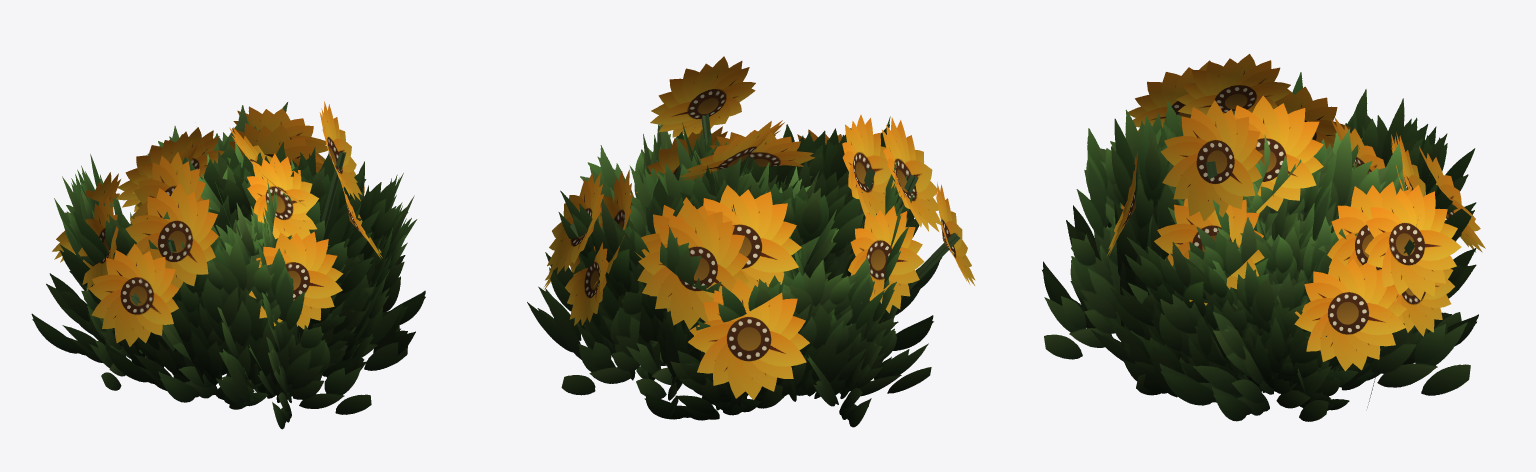
File: mm6_deco_flower02.glb
3 renders of one model, left to right at view 1: azimuth 30°, elevation 25°; view 2: azimuth 150°, elevation 25°; view 3: azimuth 270°, elevation 25°, orthographic. The views are drawn at different scales.
Visible parts, largest first — view 1: Plant; view 2: Plant; view 3: Plant.
Boxes of the visible parts, <box> form: Plant: <box>31,101,425,429</box>; Plant: <box>527,56,975,427</box>; Plant: <box>1042,54,1485,421</box>.
Bounding box in the file's own units: 0.4563 × 0.2862 × 0.4367.
Materials: 1 (1 with a texture image).
